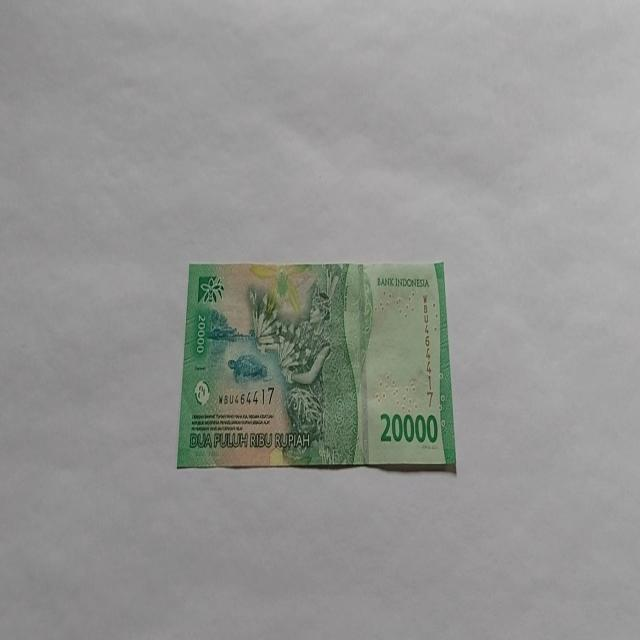dua puluh ribu rupiah: (176, 259, 457, 473), (247, 262, 372, 467)
